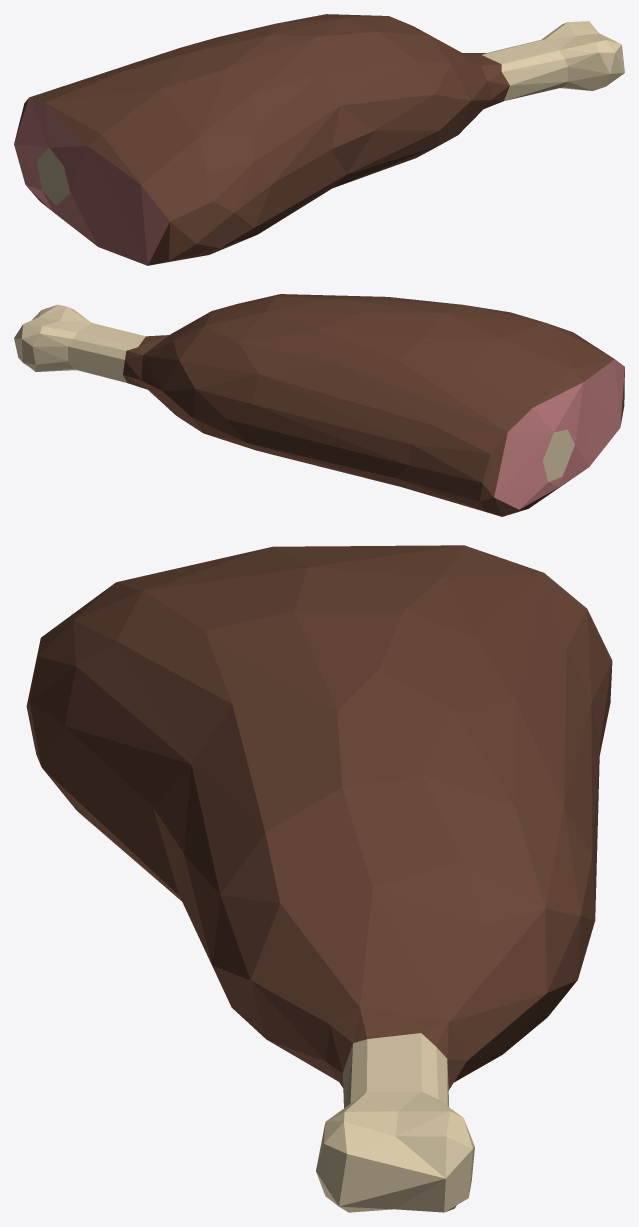
File: lamb.glb
3 renders of one model, top to bottom at view 1: azimuth 30°, elevation 25°; view 2: azimuth 150°, elevation 25°; view 3: azimuth 270°, elevation 25°, orthographic. The views are drawn at different scales.
Parts seen in each view (by area): view 1: Cube; view 2: Cube; view 3: Cube.
Boxes of the visible parts, x1,y1,x2,y2 form: Cube: (14, 14, 624, 265); Cube: (14, 294, 624, 516); Cube: (26, 545, 612, 1212).
Bounding box in the file's own units: 0.8466 × 0.198 × 0.4032.
